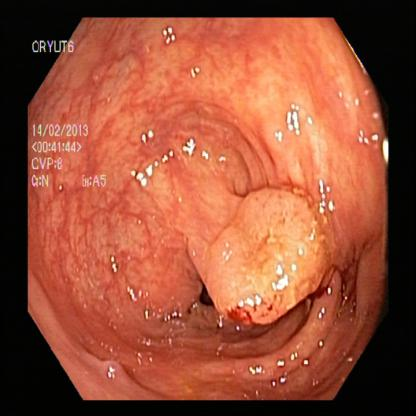Labels: (28, 40, 108, 188)
Polyps: (192, 198, 338, 321)
